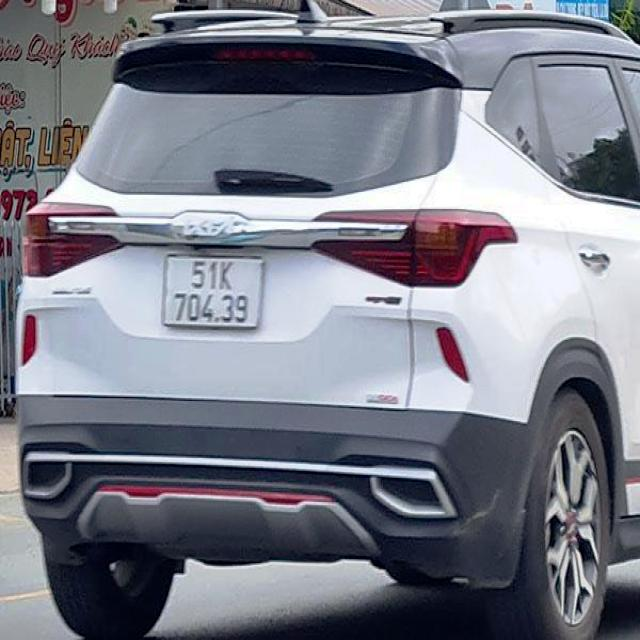license_plate: (167, 257, 265, 331)
